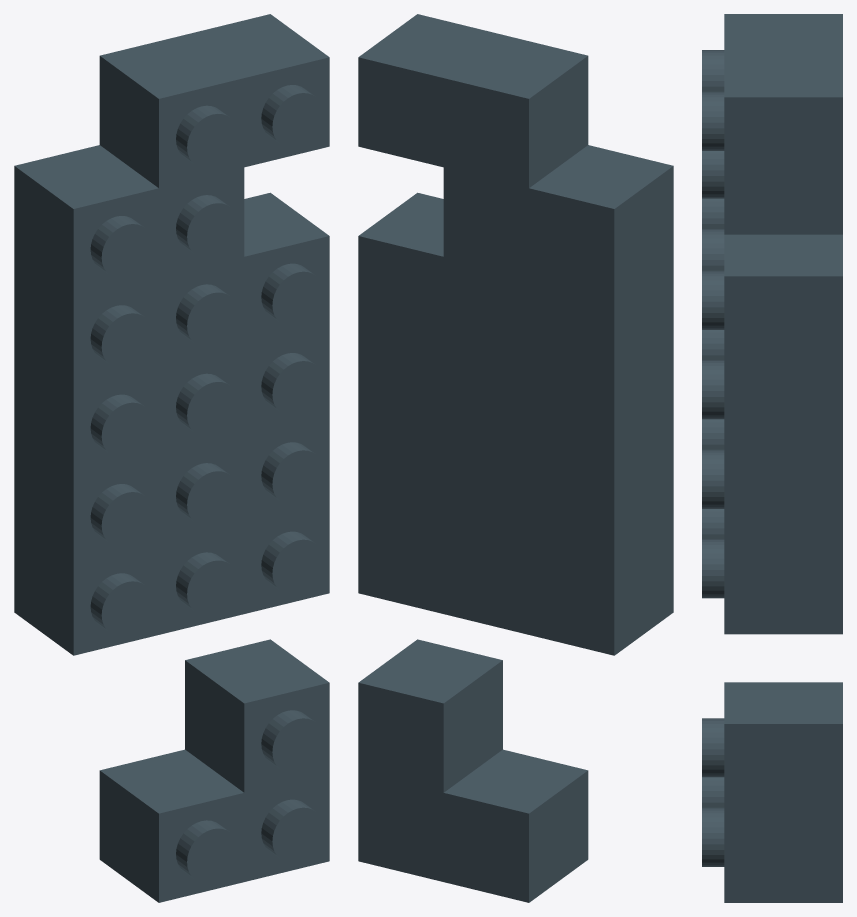
Rendered from current.glb.
3 views of the same model, side by side, from view 1: azimuth 30°, elevation 25°; view 2: azimuth 150°, elevation 25°; view 3: azimuth 270°, elevation 25° (orthographic).
Parts seen in each view (by area): view 1: world; view 2: world; view 3: world.
Part boxes in pixels (<box>): world: <box>14,14,329,902</box>; world: <box>358,14,673,902</box>; world: <box>702,14,842,902</box>.
Size of the model in its own units: 24 by 72 by 11.4.
